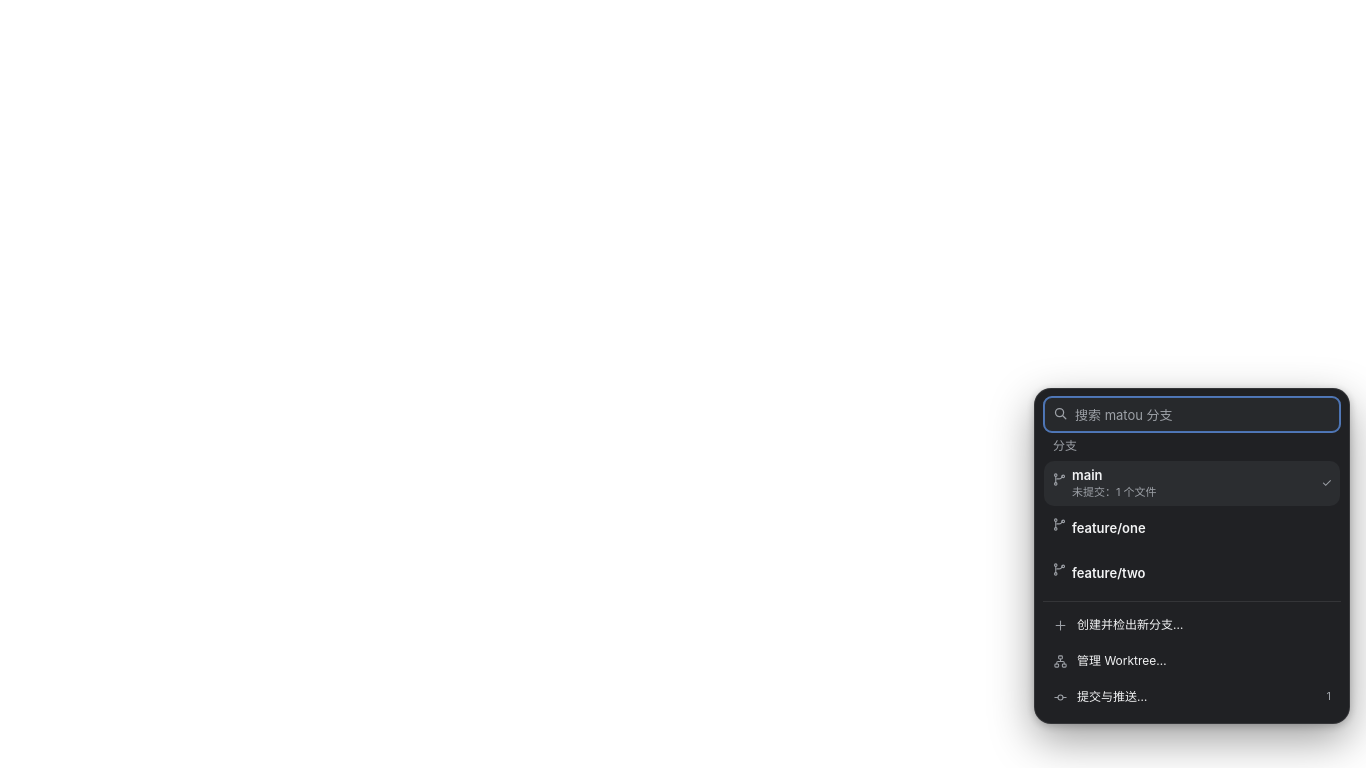
GitControlMenu › commits before pushing when the combined action is selected
Click the button "提交与推送… 1" at (1112, 696), box x1=1043 y1=679 x2=1341 y2=715
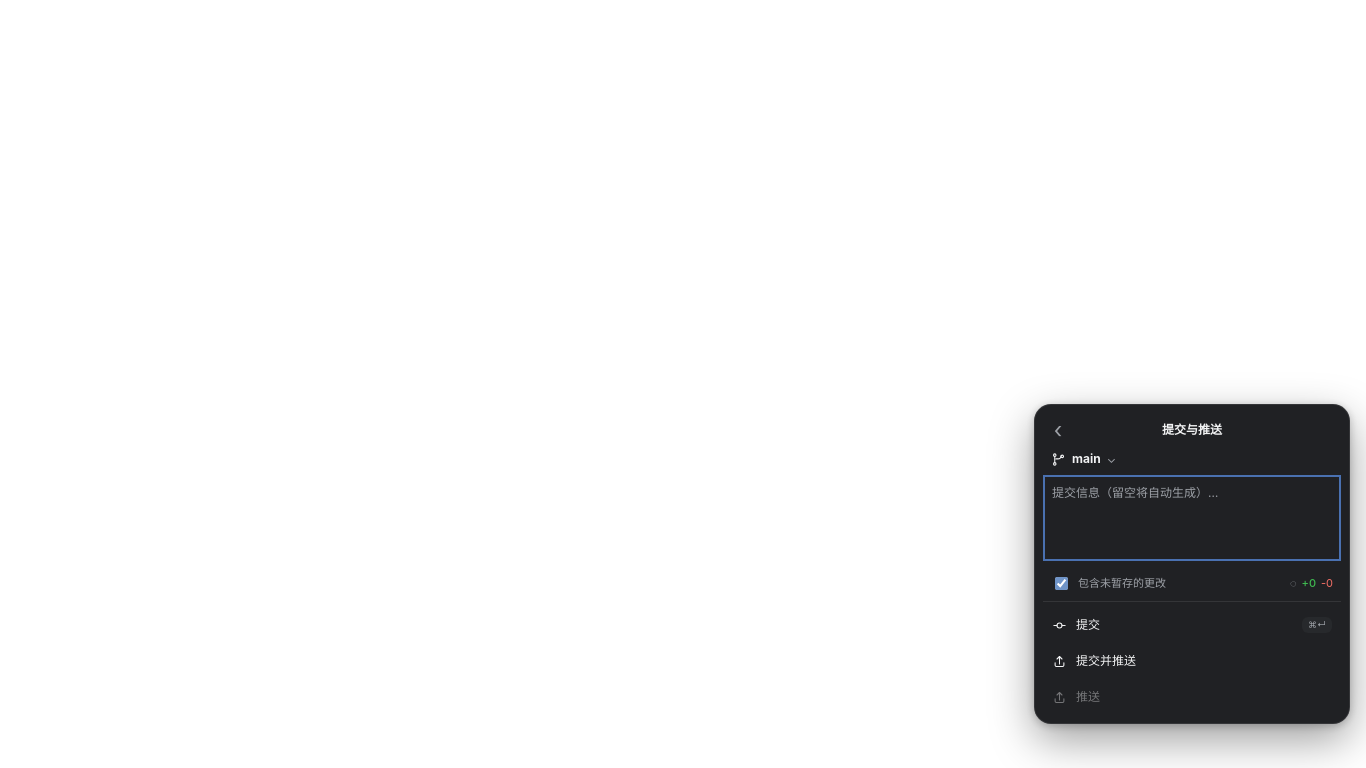
Type "feat: ship control" into the text box with placeholder "提交信息（留空将自动生成）…" at (1192, 518), box x1=1043 y1=475 x2=1341 y2=561
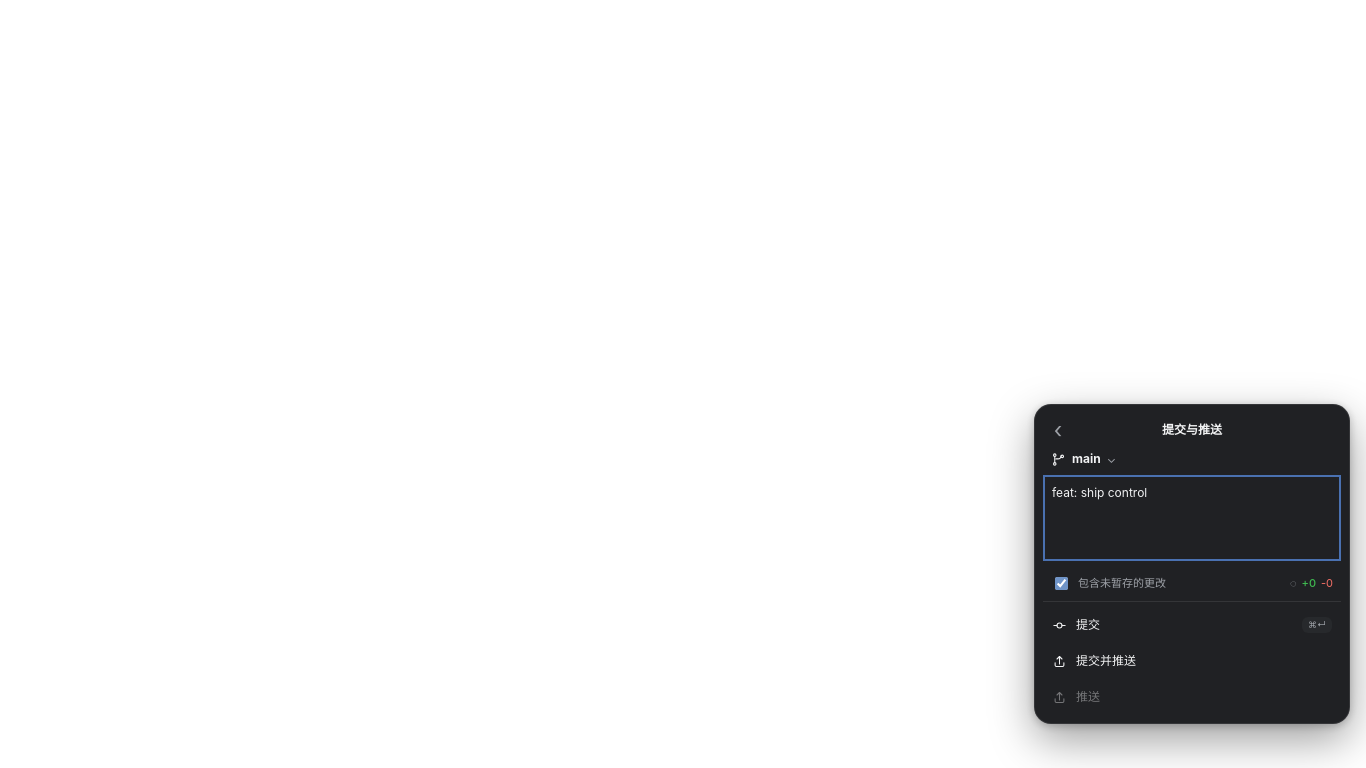
Click the button "提交并推送" at (1106, 660), box x1=1043 y1=643 x2=1341 y2=679
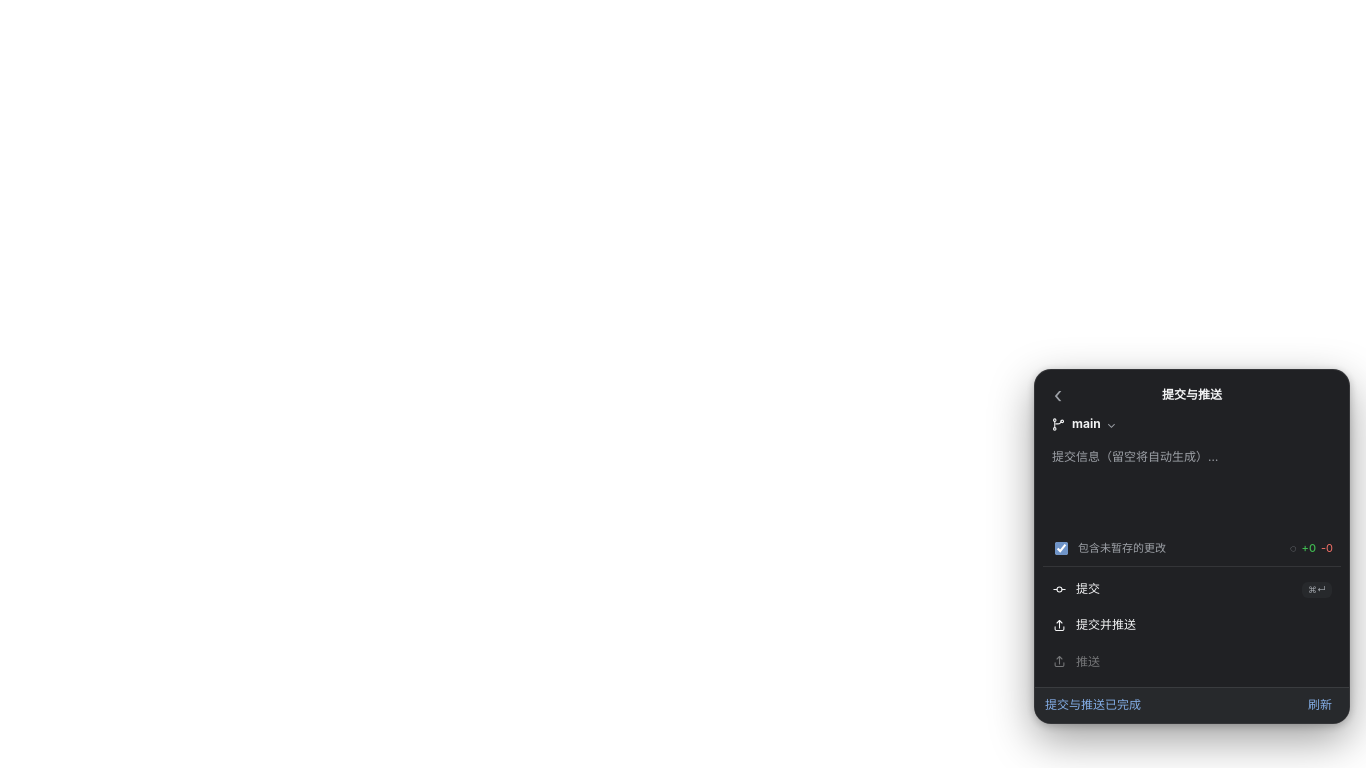
Result: the text "提交与推送已完成" is shown at x1=1045 y1=697 x2=1141 y2=712
